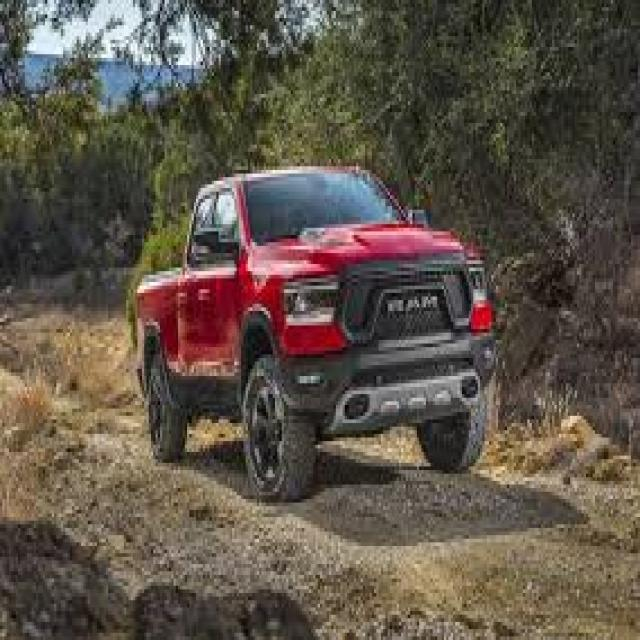Pickup Trucks: (133, 166, 498, 506)
